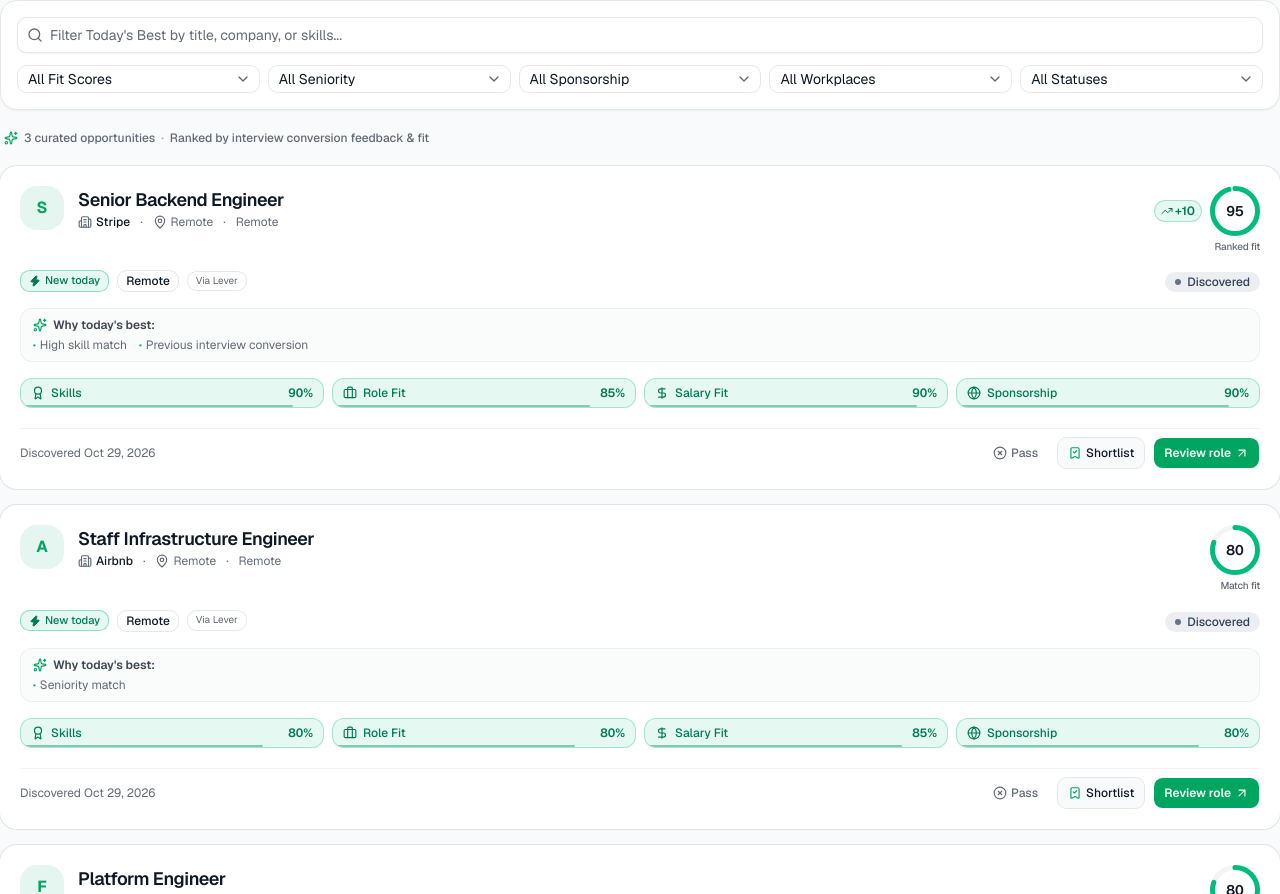
moves focus to a card still there when two Passes overlap
The width and height of the screenshot is (1280, 894).
Click the 2nd button "Pass" at [1016, 793], box [982,777,1049,809]
(page scrolled)
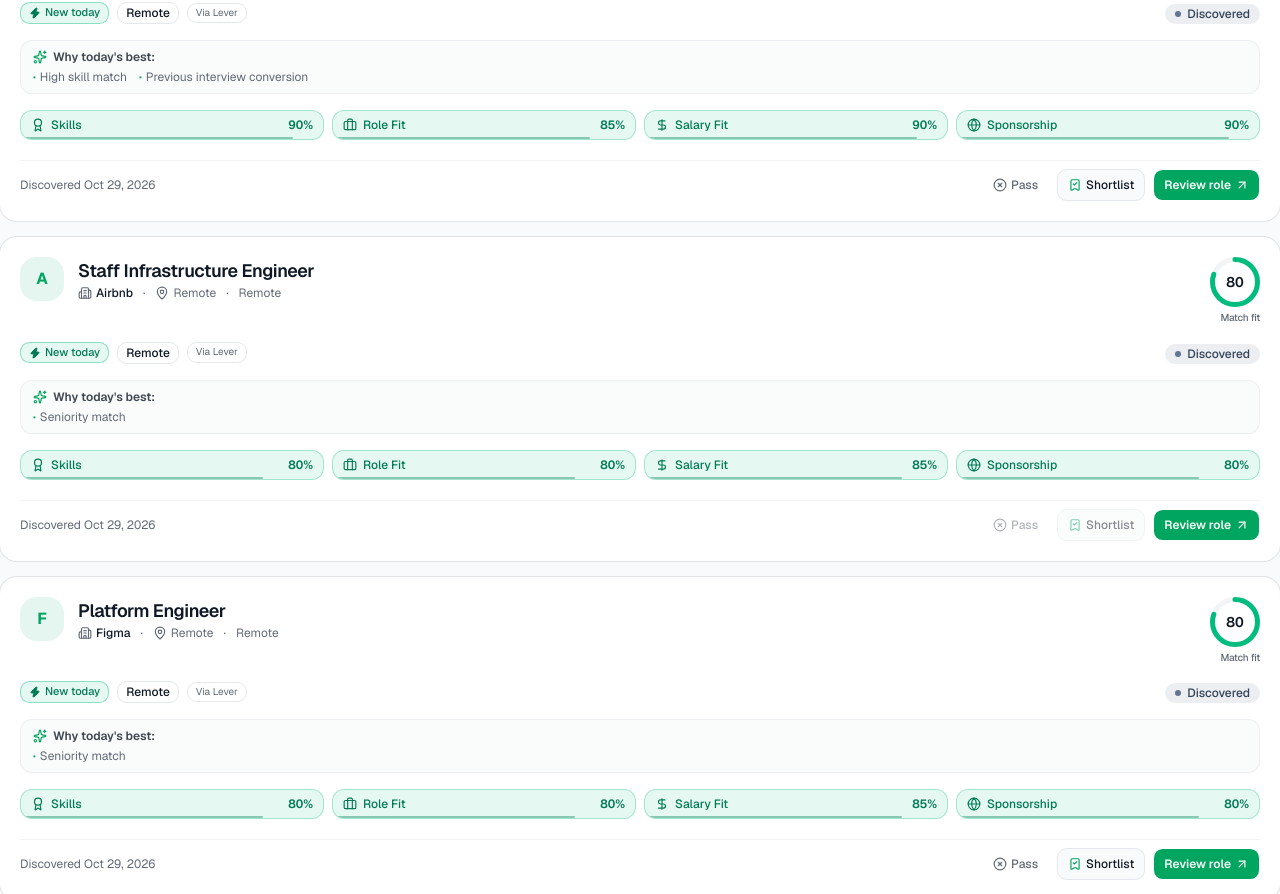
Click the 3rd button "Pass" at [1016, 864], box [982,848,1049,880]
(page scrolled)
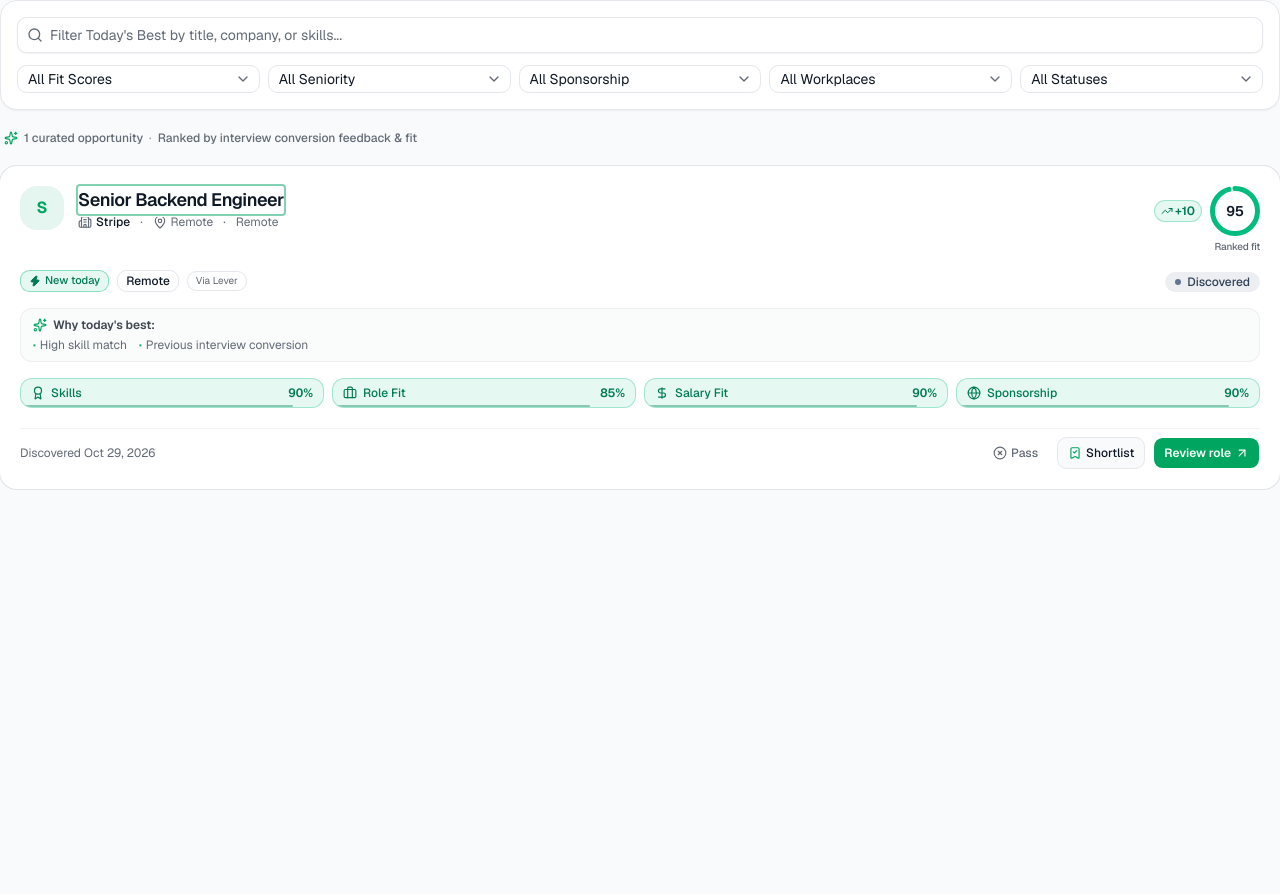
Expected: the text "1 curated opportunity" is shown, [24,130,143,146]
